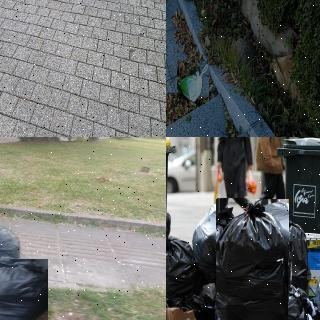Garbage: (215, 198, 288, 320), (190, 199, 248, 281), (166, 232, 203, 315), (0, 258, 48, 320), (177, 61, 209, 100), (0, 220, 22, 264)
